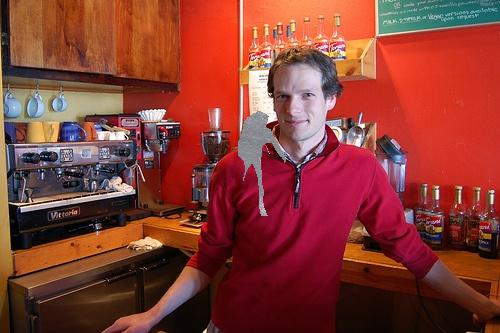tampered: (239, 112, 286, 216)
